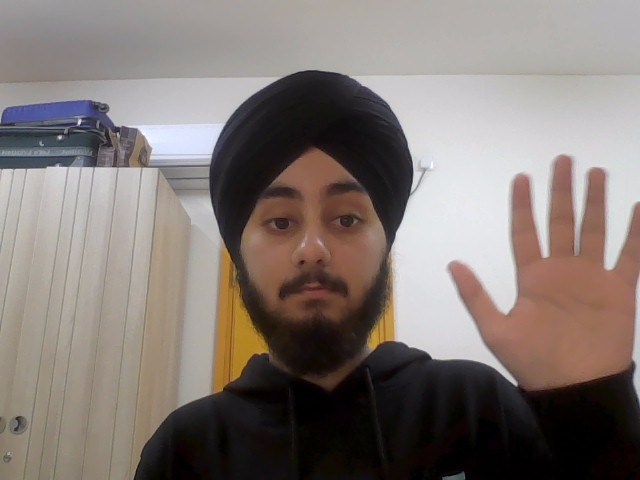Hello: (448, 156, 640, 387)
